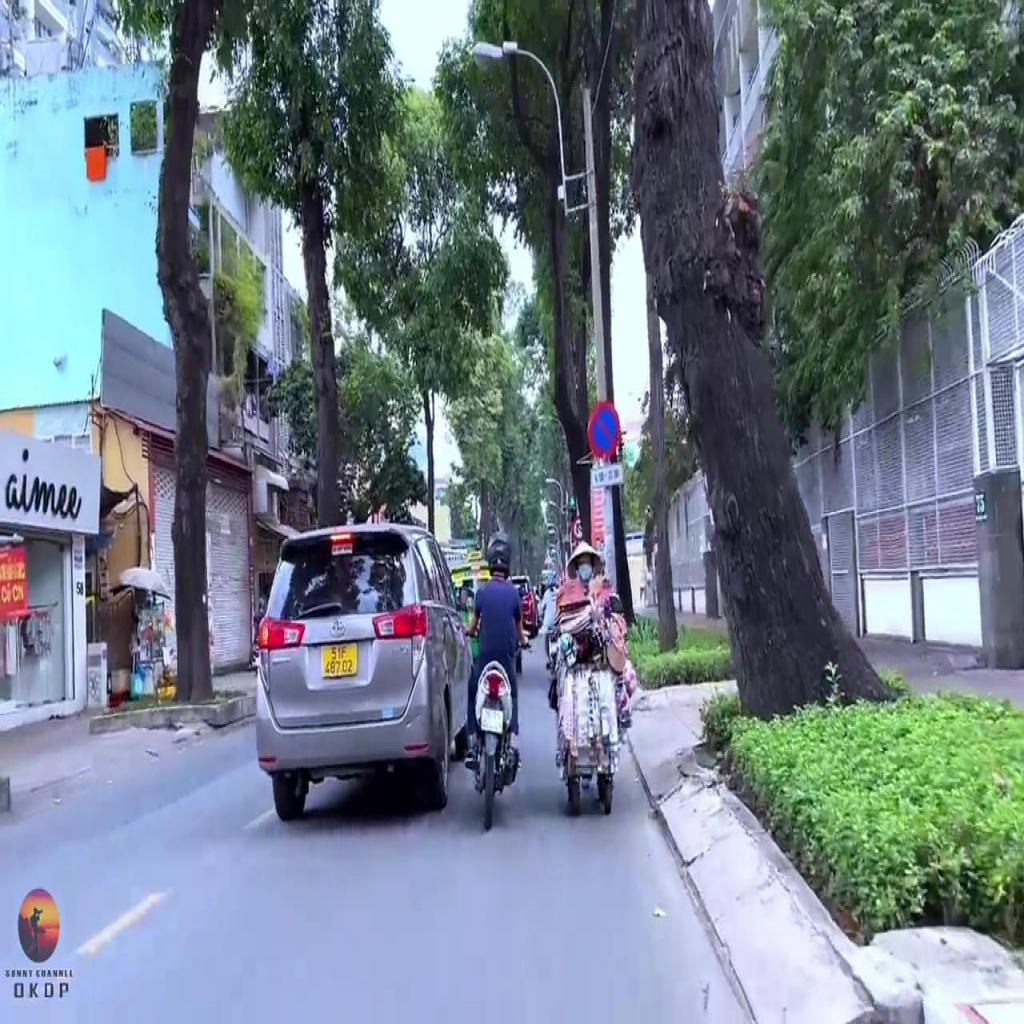cam_do_xe: (587, 400, 620, 458)
cam_re_phai: (573, 515, 584, 539)
khac: (590, 465, 622, 488)
